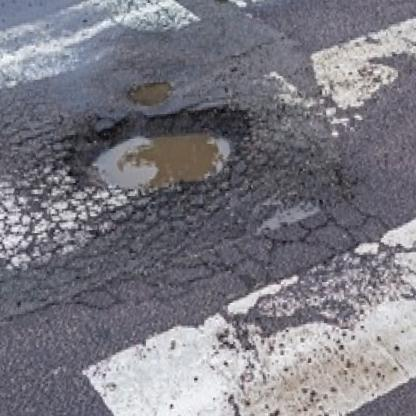pothole: (69, 106, 252, 202), (125, 78, 175, 110)
